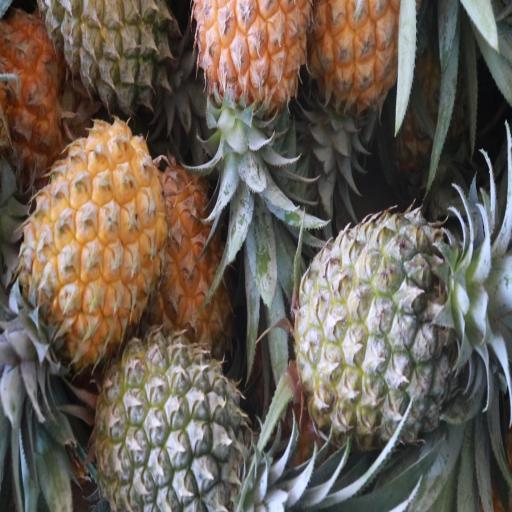------------------------------: (39, 0, 171, 123)
Pineapple - v8 v1: (20, 119, 167, 363), (149, 174, 238, 360), (190, 0, 308, 125), (306, 0, 414, 129)
